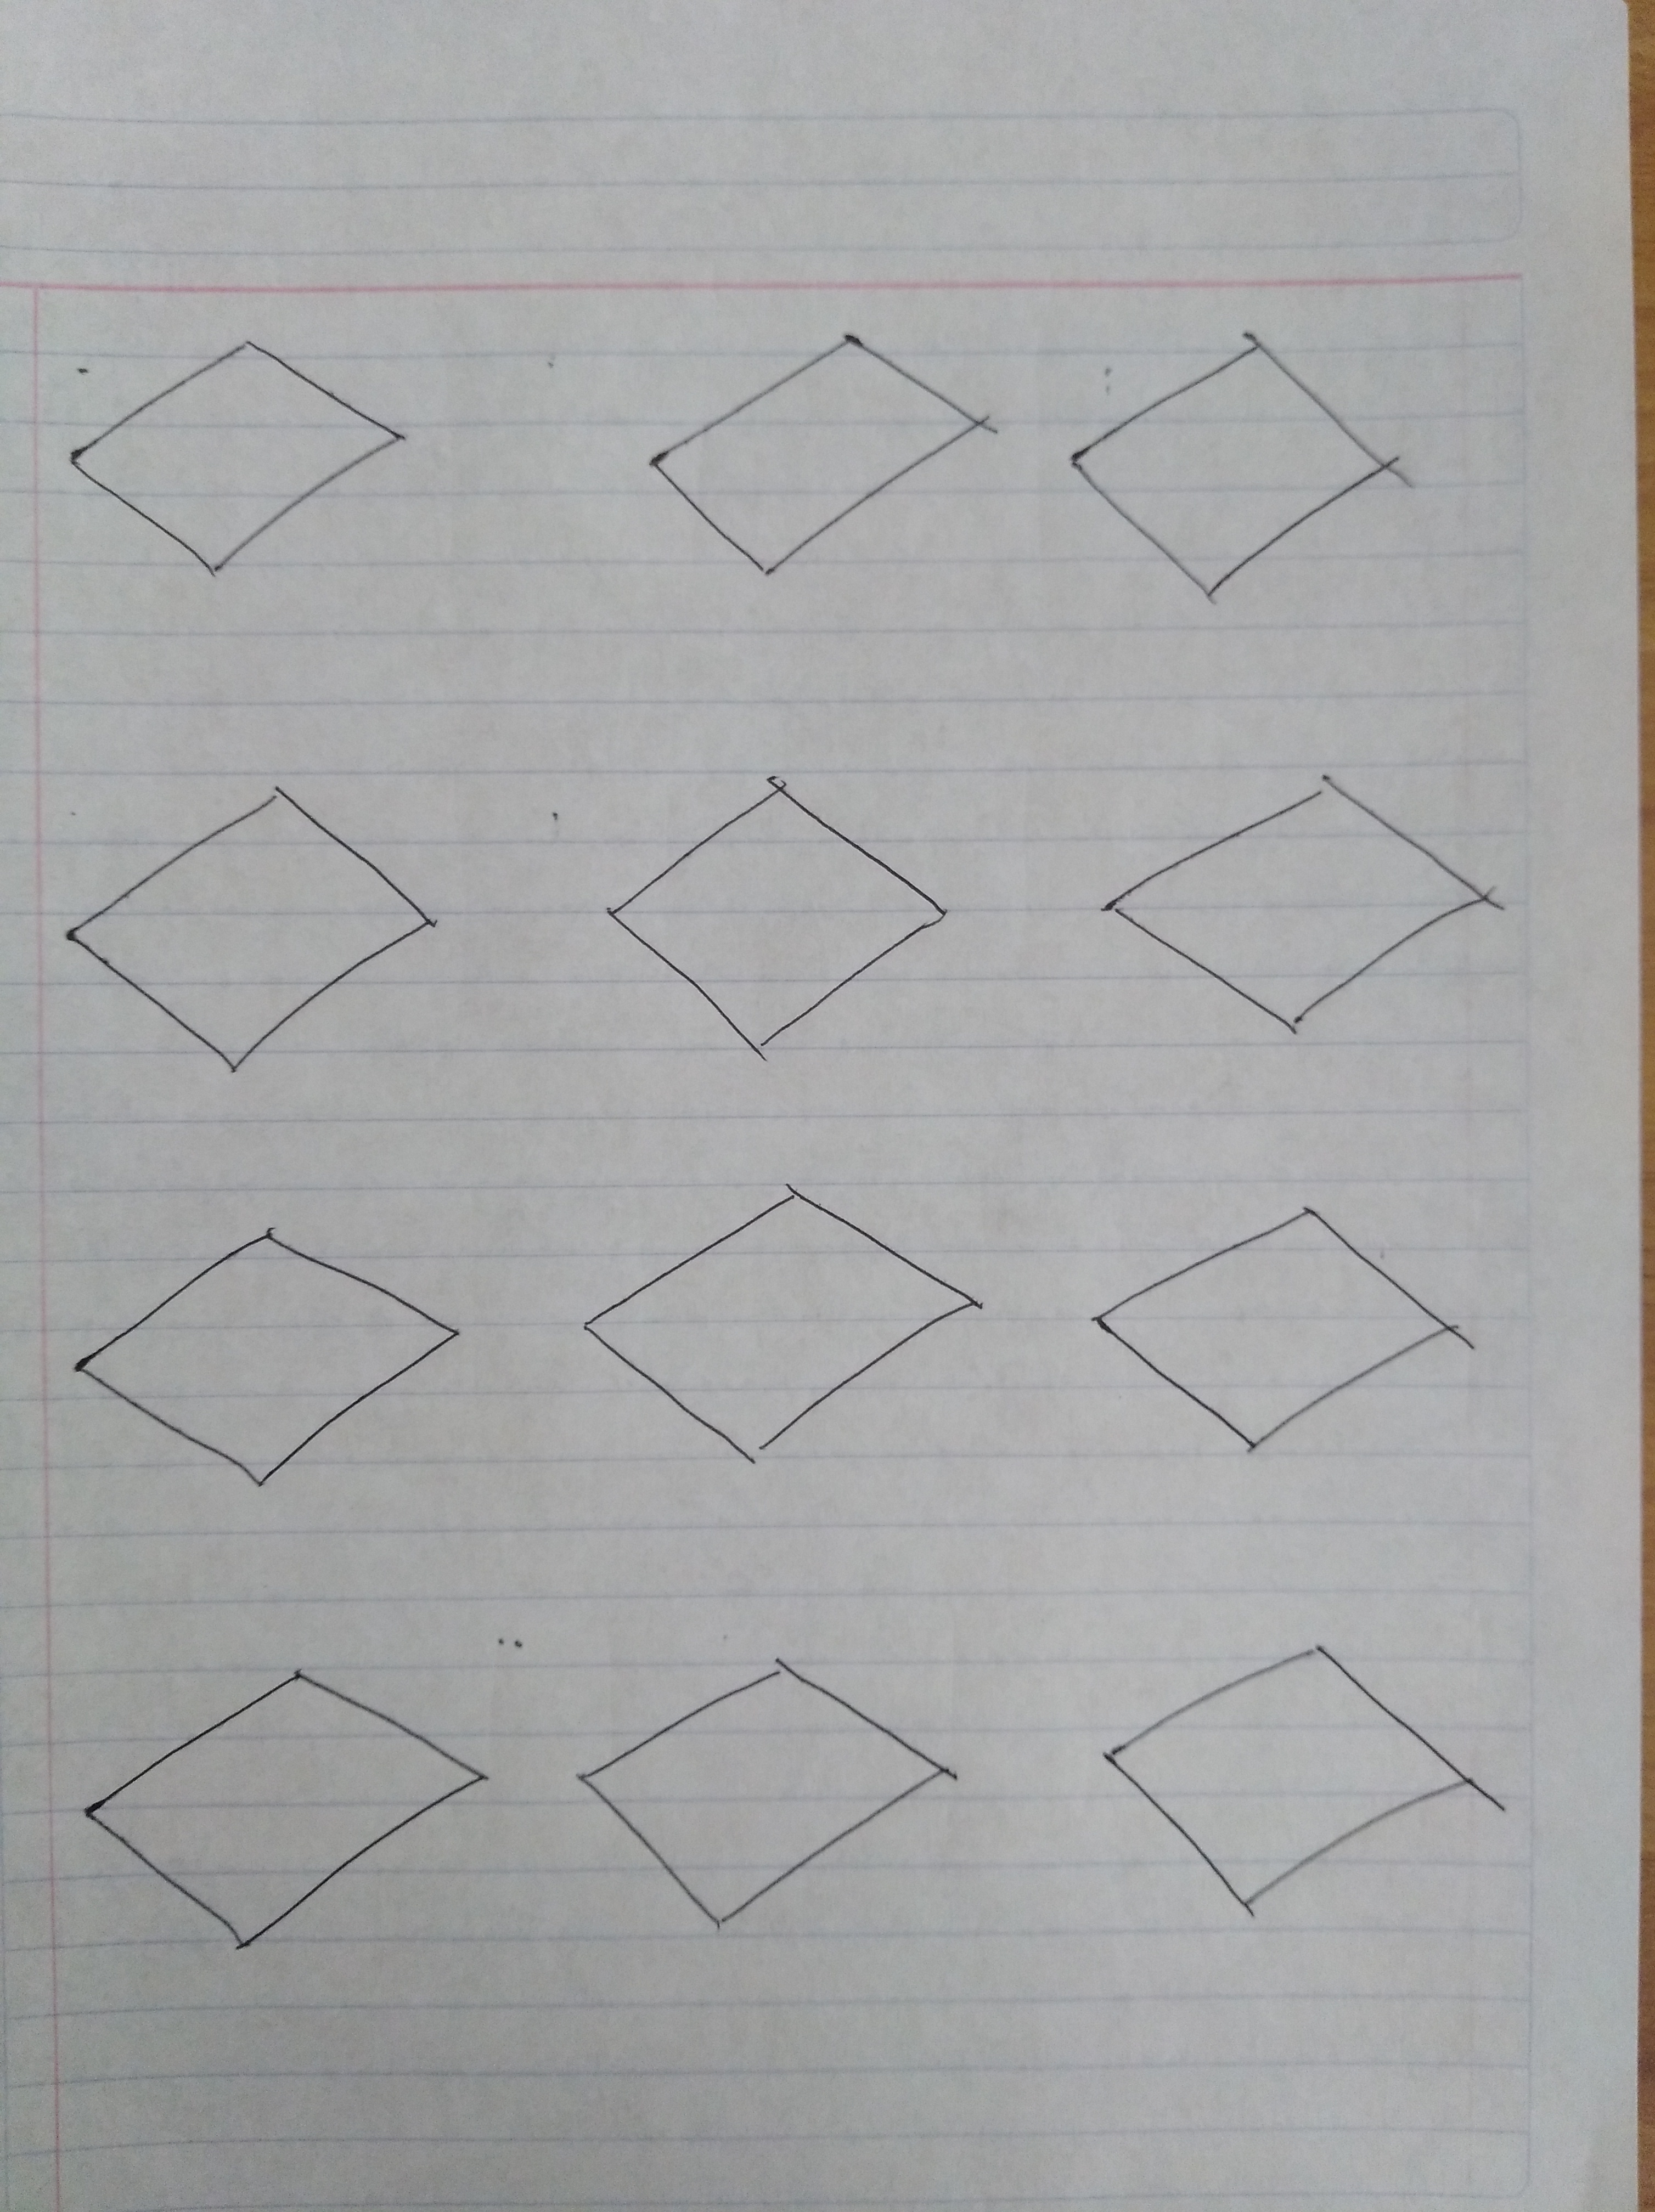decision: (1081, 721, 1528, 1083), (1066, 1602, 1530, 1943), (57, 1635, 523, 1970), (562, 1154, 1008, 1491), (1060, 1166, 1505, 1491), (47, 751, 462, 1095), (49, 1190, 494, 1508), (555, 1619, 977, 1951), (581, 733, 960, 1095), (1053, 295, 1443, 631), (619, 294, 1026, 608), (40, 309, 426, 599)
